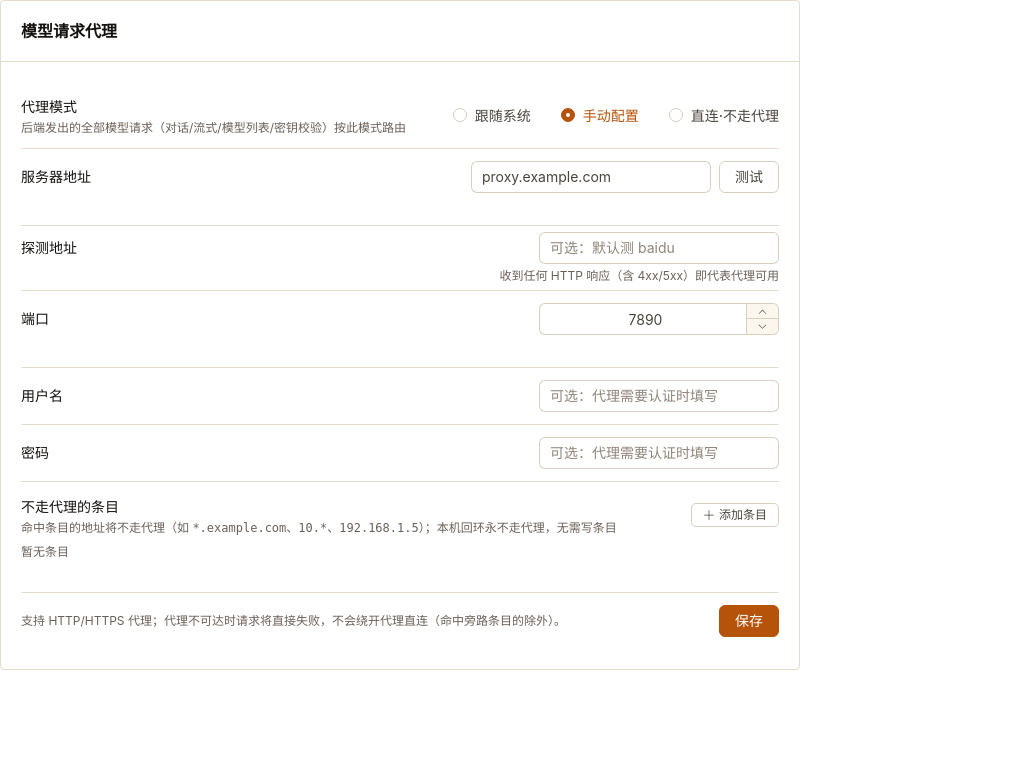
Test: NetworkPanel › 已有结果后改任意输入 → 反馈重置回 idle（结果必须与当前表单一致）
Click the button with test id "proxy-test-btn".
click(749, 177)  # box [719,161,779,193]
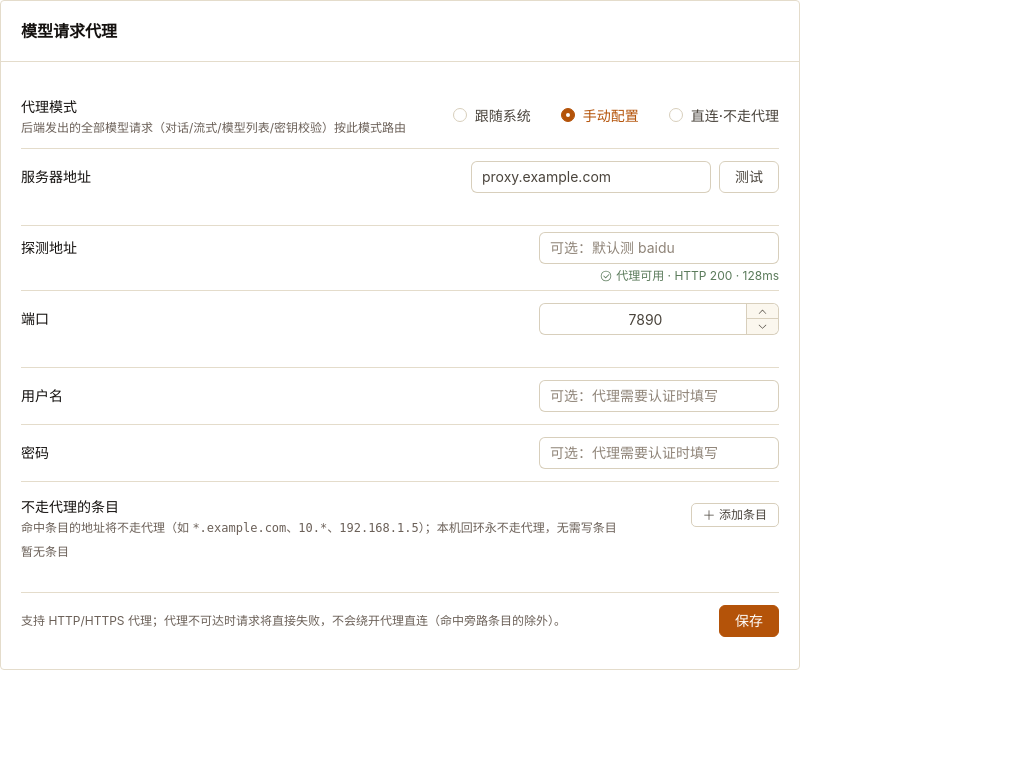
Expected: the element with test id "proxy-test-feedback" shows "代理可用", [616,268,779,283]
Replace the text in the field named "代理服务器地址" with "other.proxy" at [591, 177], box [482,162,700,192]
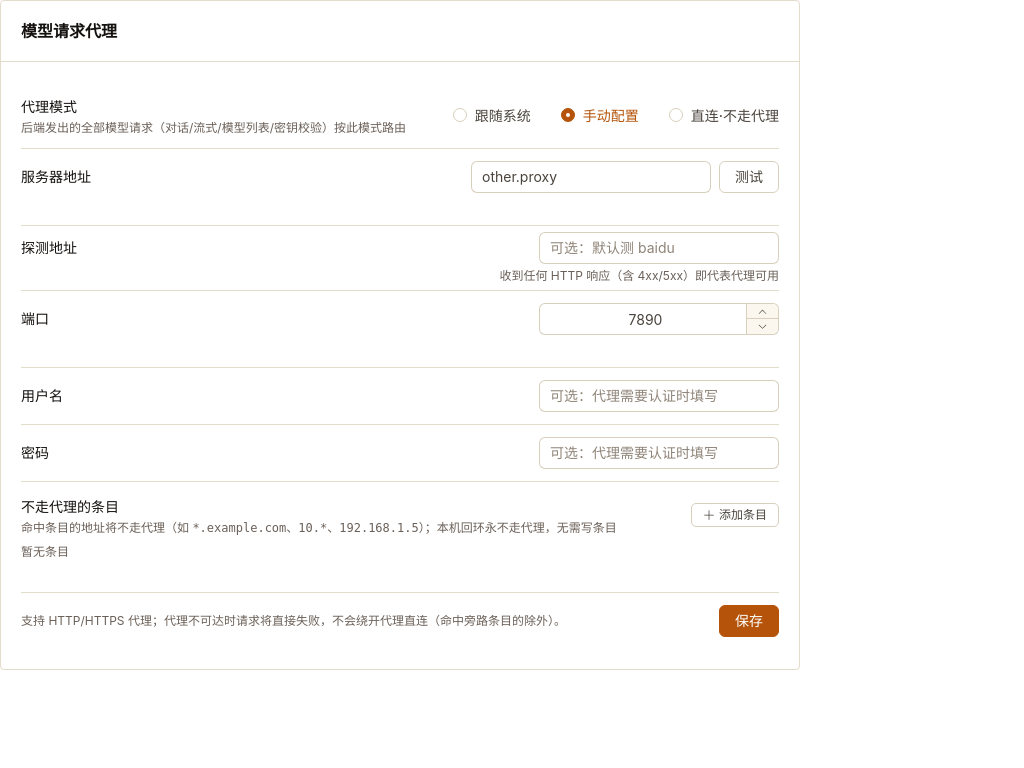
Expected: the element with test id "proxy-test-feedback" shows "收到任何 HTTP 响应", [499,268,779,283]
